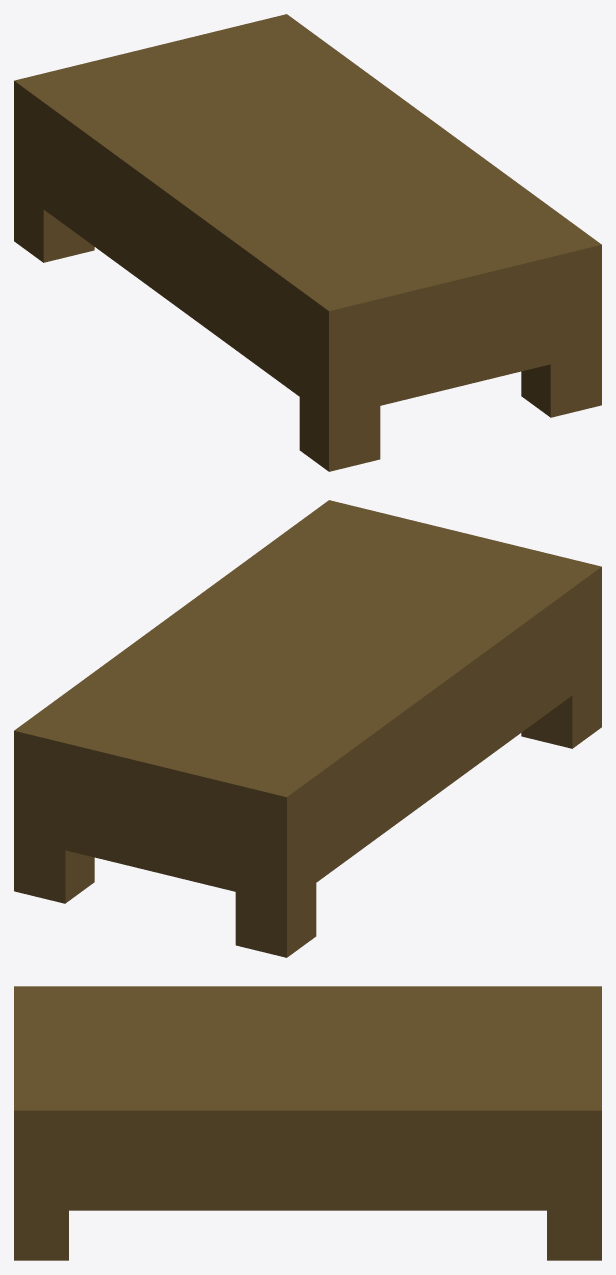
3 renders of one model, top to bottom at view 1: azimuth 30°, elevation 25°; view 2: azimuth 150°, elevation 25°; view 3: azimuth 270°, elevation 25°, orthographic. The views are drawn at different scales.
Visible parts, largest first — view 1: bed; view 2: bed; view 3: bed.
Part boxes in pixels (x1,y1,x2,y2): bed: (14,14,601,471); bed: (14,500,601,957); bed: (14,986,601,1260).
Size of the model in its own units: 1 by 0.5625 by 2.
